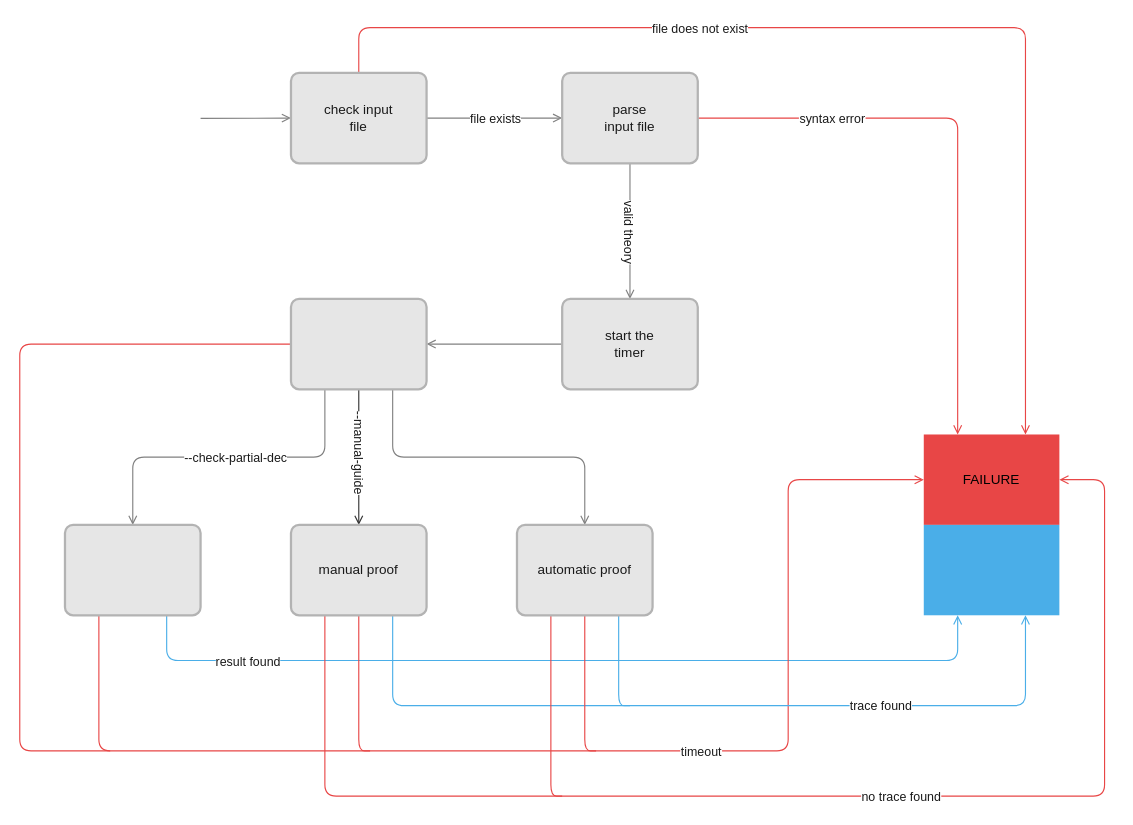
Some shapes in this 1133 by 825 pixel diagram are drawn without their labels. Here are the shapes that lost their labels. From the top down, the centre of each, then its label:
[358,343]: start theory precomputation
[132,569]: check for partial deconstructions
[991,569]: COMPLETED
